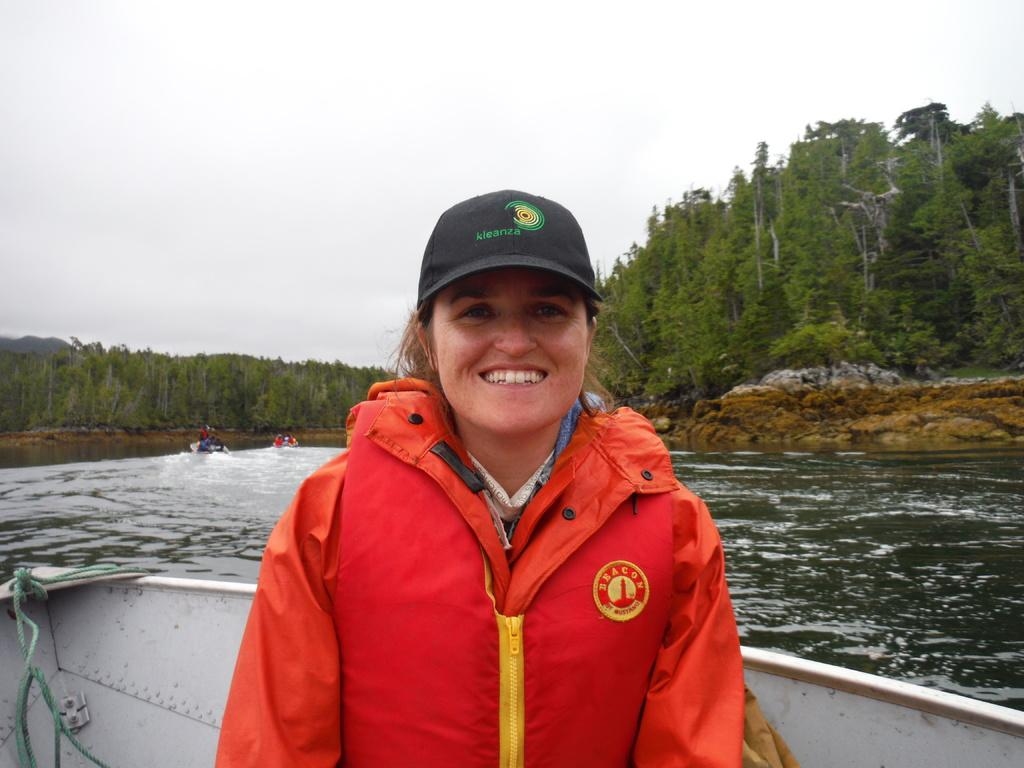Hat: (416, 187, 602, 314)
